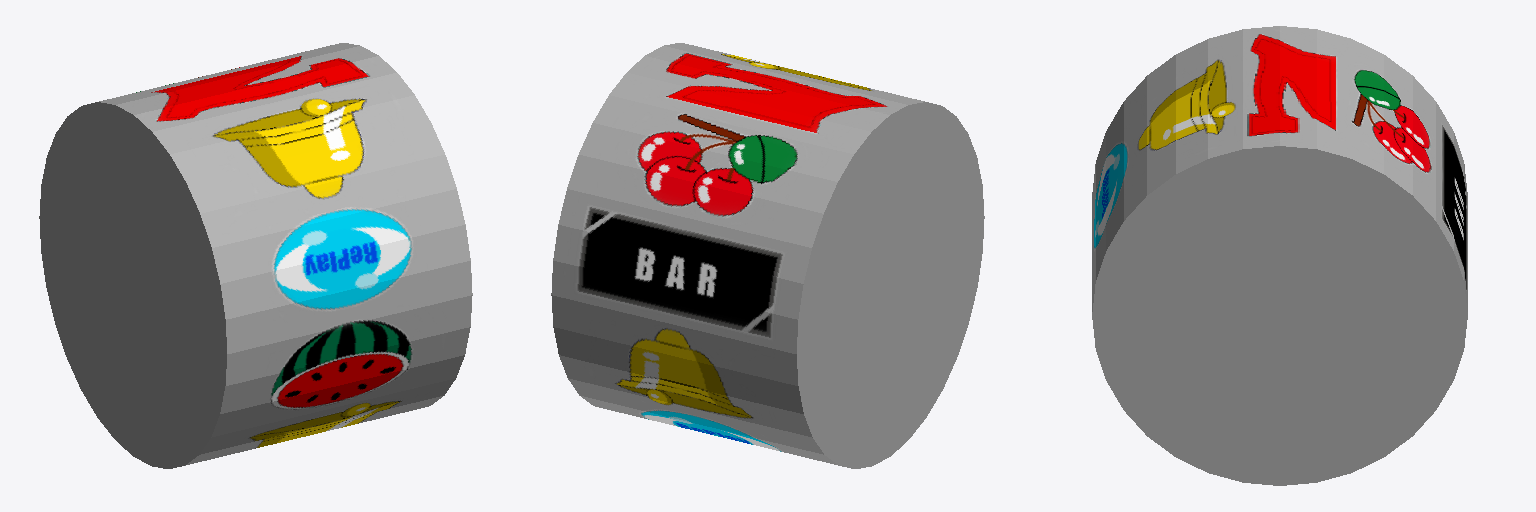
3 renders of one model, left to right at view 1: azimuth 30°, elevation 25°; view 2: azimuth 150°, elevation 25°; view 3: azimuth 270°, elevation 25°, orthographic.
Visible parts, largest first — view 1: 円柱; view 2: 円柱; view 3: 円柱.
Boxes of the visible parts, x1=… form: 円柱: x1=39, y1=43, x2=472, y2=468; 円柱: x1=551, y1=43, x2=984, y2=468; 円柱: x1=1092, y1=26, x2=1467, y2=485.
Size of the model in its own units: 4.02 by 5.31 by 5.31.
Materials: 1 (1 with a texture image).